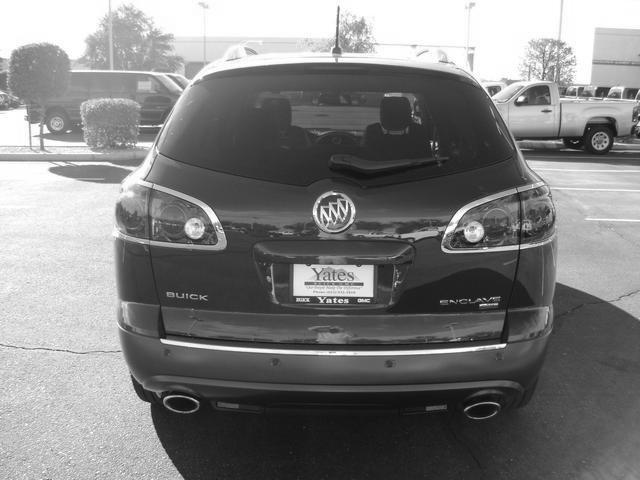car: (111, 3, 564, 429)
